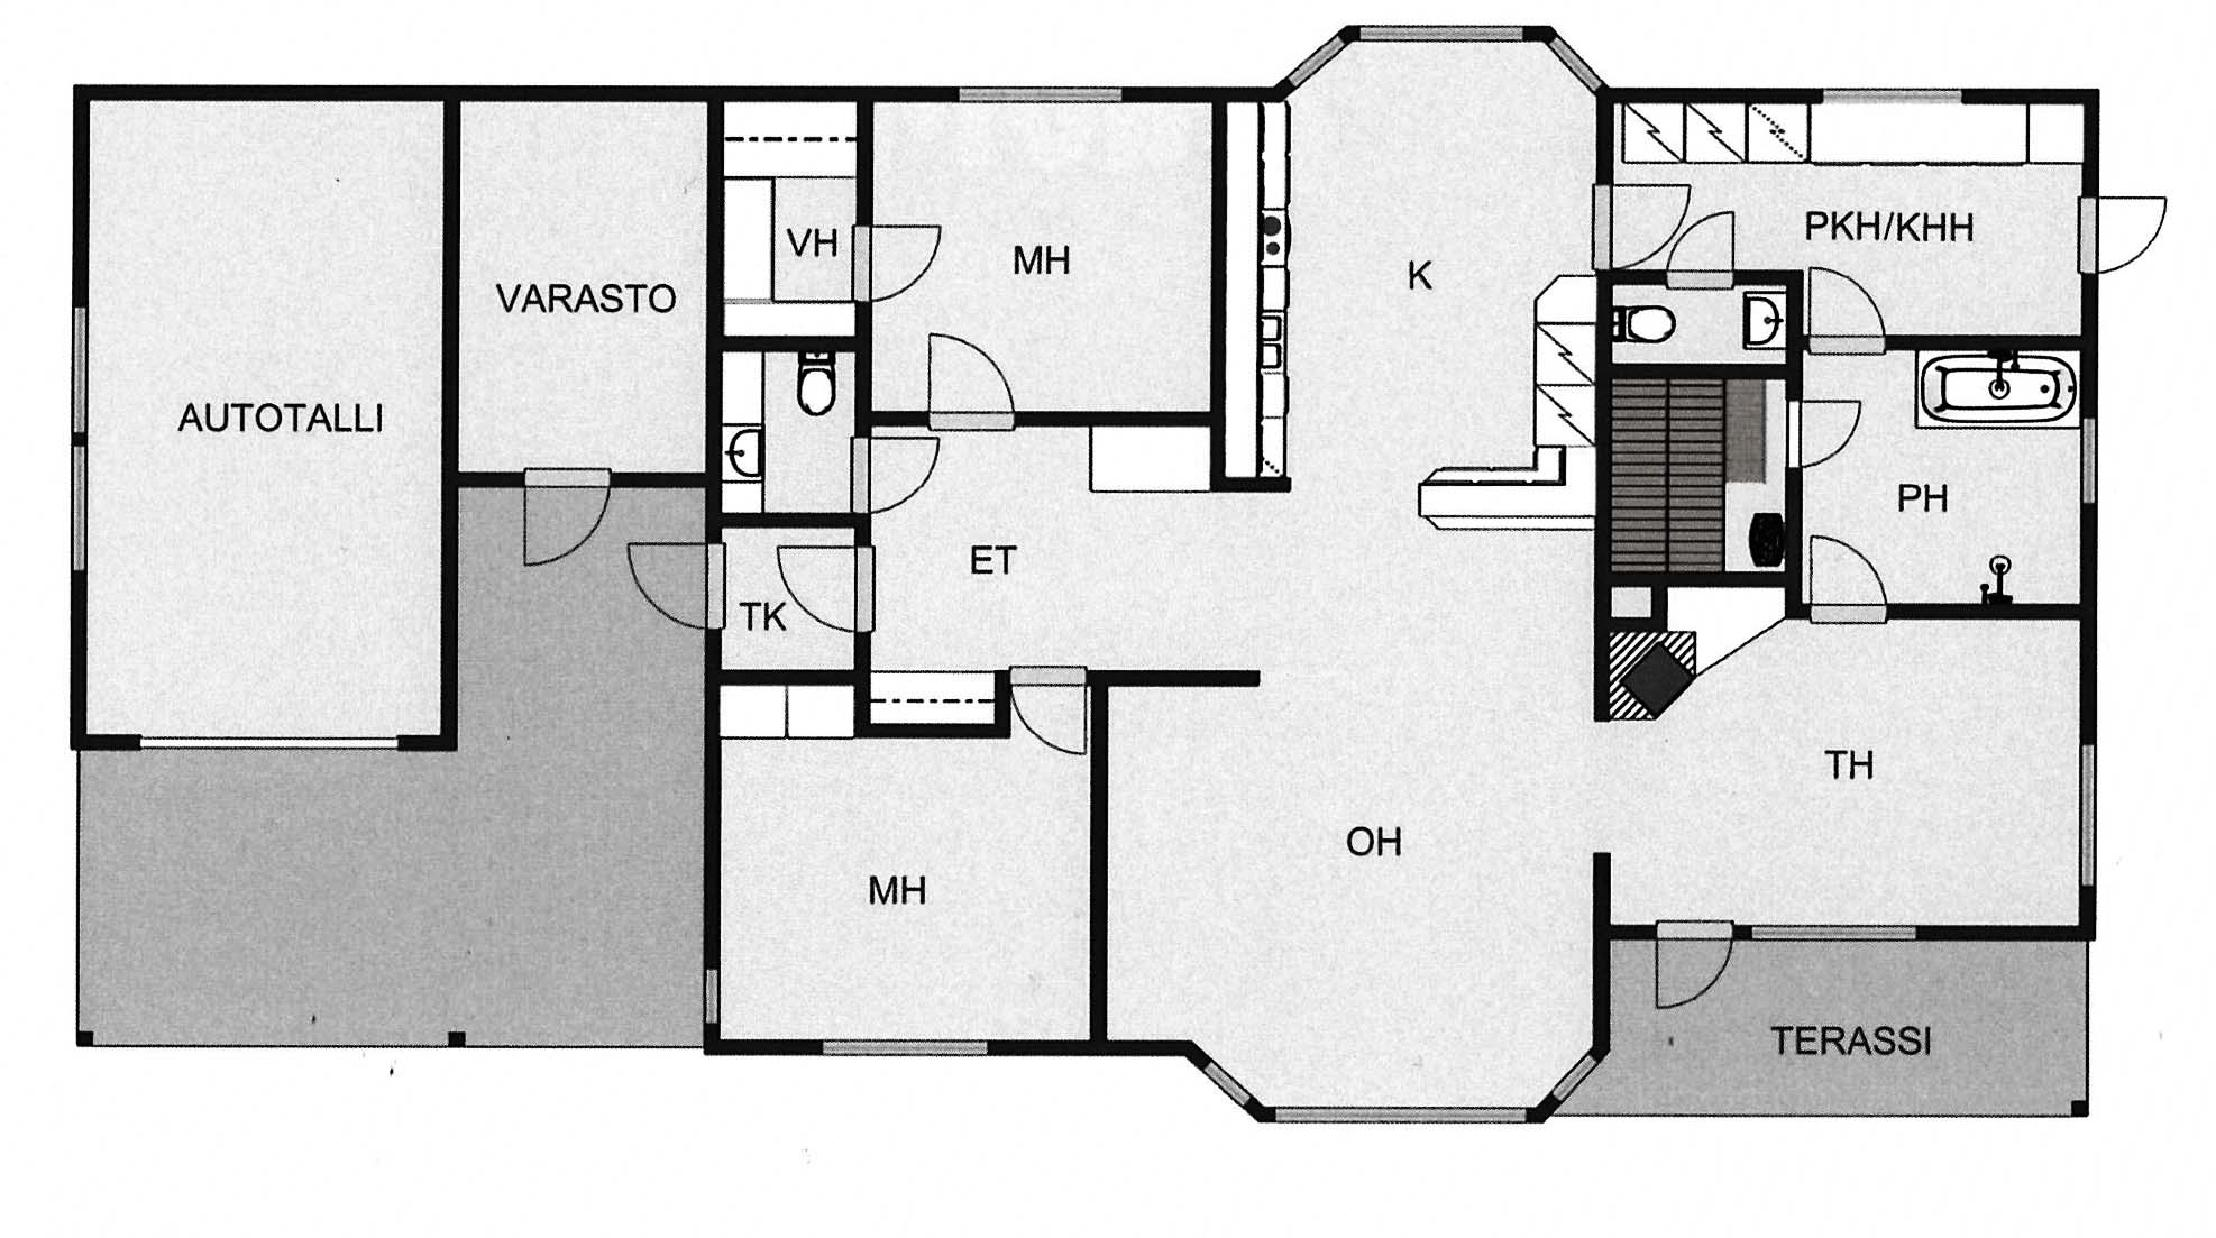door: (767, 538, 883, 640), (924, 327, 1029, 437), (2065, 192, 2179, 292), (517, 464, 613, 577), (1802, 266, 1893, 381), (1808, 534, 1898, 646), (1583, 181, 1692, 266), (1651, 918, 1737, 1028), (624, 539, 726, 630), (1775, 399, 1880, 484), (1642, 206, 1749, 286), (842, 439, 947, 515), (851, 224, 938, 305)
window: (1266, 1101, 1527, 1130), (820, 1028, 989, 1064), (67, 308, 88, 570), (1355, 17, 1520, 46), (2079, 739, 2106, 892), (1278, 27, 1345, 85), (957, 84, 1126, 104), (1549, 37, 1598, 101), (2074, 417, 2109, 506), (1202, 1058, 1256, 1112), (1746, 927, 1921, 943), (1817, 87, 1957, 104), (699, 964, 721, 1026)
zone: (858, 419, 1632, 1131), (96, 483, 705, 1051), (1218, 15, 1667, 556), (88, 94, 435, 731), (1595, 580, 2073, 923), (720, 684, 1087, 1035), (1613, 102, 2077, 330), (874, 97, 1205, 405), (1568, 936, 2094, 1122), (455, 102, 699, 471), (1802, 355, 2082, 598), (1612, 378, 1784, 566), (724, 99, 852, 333), (721, 352, 849, 509), (721, 522, 855, 668), (1610, 286, 1781, 356)
